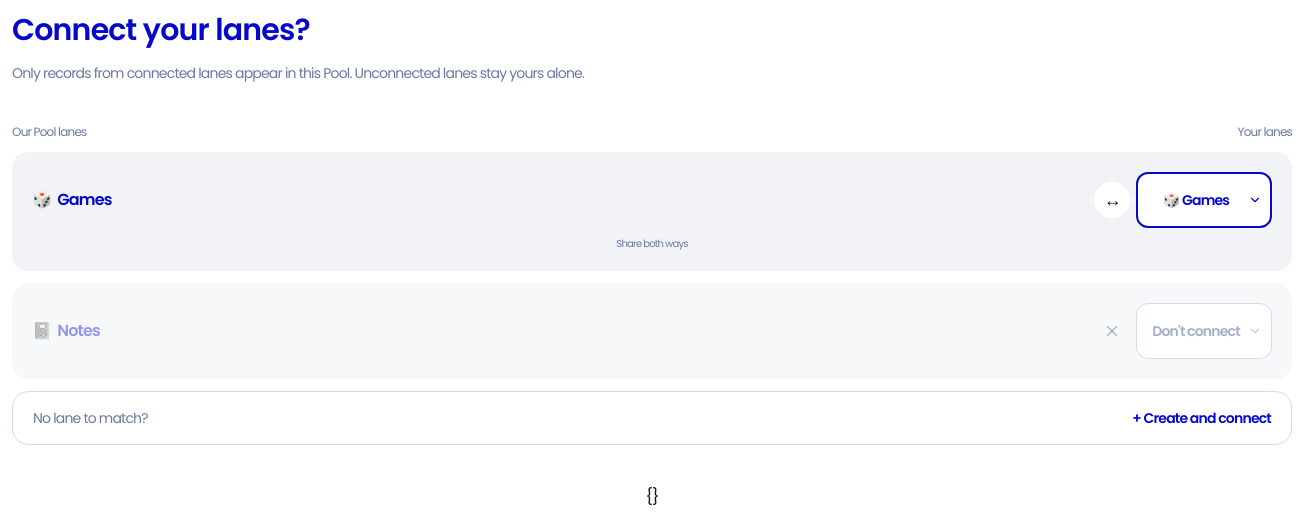
Scenario: a link’s direction (0017) › starts at ↔ and cycles ← then →, its caption always shown
Click the button "↔": [1112, 200] box [1094,182,1130,218]
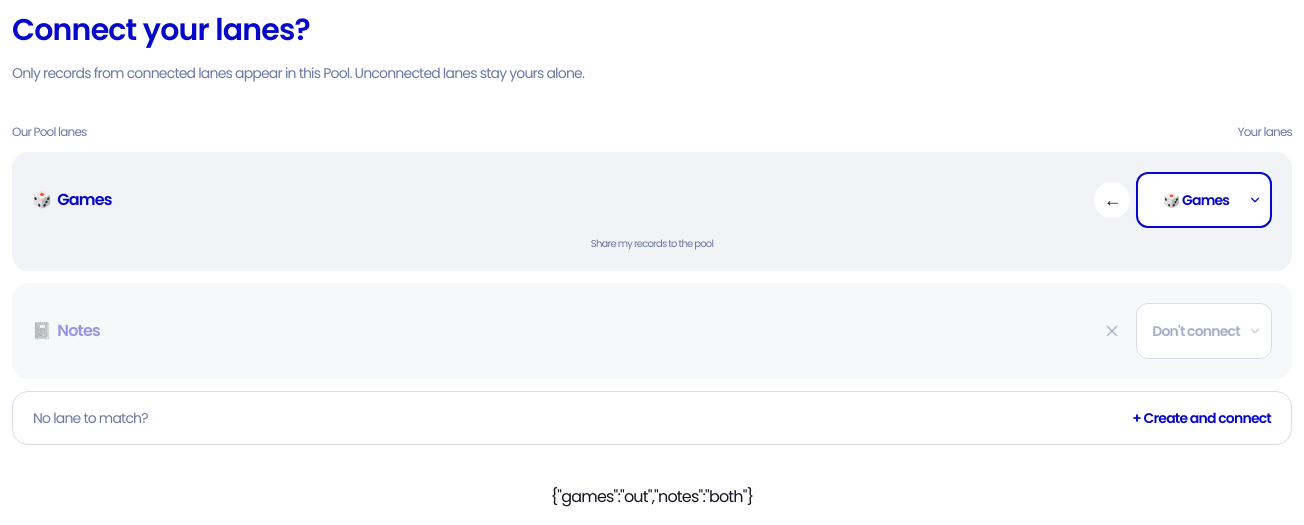
Result: the text "Share my records to the pool" is shown at [591,236,713,251]
Click the button "←": [1112, 200] box [1094,182,1130,218]
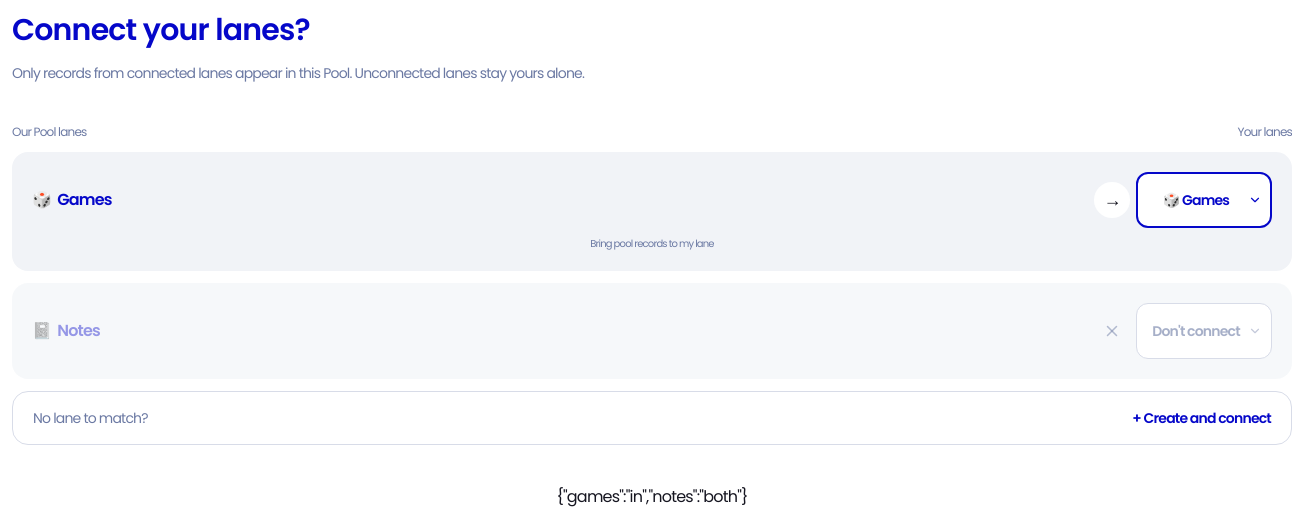
Result: the button "→" is shown at [1094,182,1130,218]
Result: the text "Bring pool records to my lane" is shown at [590,236,714,251]
Result: the text "{\"games\":\"in\",\"notes\":\"both\"}" shows "\"games\":\"in\"" at [556,485,748,508]
